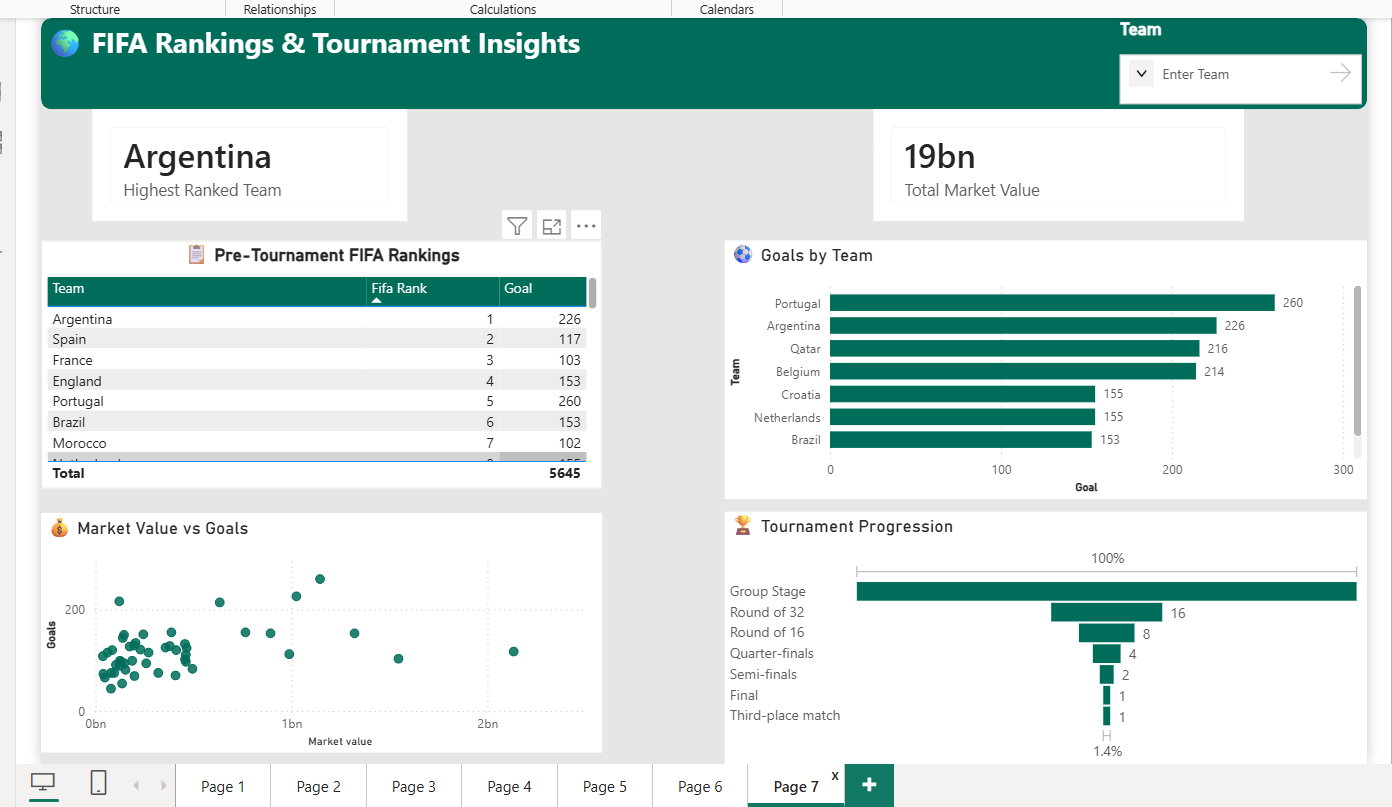

What the dashboard file says about the page in this screenshot:
{"tool":"powerbi","page":{"name":"Page 7","canvas":[1280,720],"ordinal":6},"visuals":[{"type":"shape","box":[0,0,1280,88.2],"z":0},{"type":"tableEx","title":"📋 Pre-Tournament FIFA Rankings","fields":{"Values":["teams.team_name","teams.fifa_ranking_pre_tournament","Sum(squads_and_players.goals)"]},"box":[0,214.7,541.7,238.9],"z":1000},{"type":"clusteredBarChart","title":"⚽ Goals by Team","fields":{"Category":["teams.team_name"],"Y":["Sum(squads_and_players.goals)"]},"box":[660,215.2,620,249.4],"z":2000},{"type":"scatterChart","title":"💰 Market Value vs Goals","fields":{"Category":["teams.team_name"],"X":["Sum(squads_and_players.market_value_eur)"],"Y":["Sum(squads_and_players.goals)"]},"box":[0,477.5,541.6,230.9],"z":3000},{"type":"funnel","title":"🏆 Tournament Progression","fields":{"Category":["tournament_stages.stage_name"],"Y":["Count(matches.match_id)"]},"box":[660,476.1,620,243.7],"z":4000},{"type":"textbox","box":[0,0,531.7,88.4],"z":5000},{"type":"textSlicer","title":"Team","fields":{"Values":["teams.team_name"]},"box":[1036.3,0,243.7,88.4],"z":5001},{"type":"cardVisual","fields":{"Data":["teams.Highest Ranked Team"]},"box":[49.9,88.4,303.6,108.3],"z":5002},{"type":"cardVisual","fields":{"Data":["squads_and_players.Total Market Value"]},"box":[803.9,88.4,357.8,108.3],"z":5003}]}

Visuals, with their boxes on the page's 1280x720 design canvas (x1, y1, x2, y2). These are canvas units, not pixel positions in the 1392x807 screenshot, which may show the page scaled, cropped or inside an application window:
shape: (0, 0, 1280, 88)
"📋 Pre-Tournament FIFA Rankings" tableEx: (0, 215, 542, 454)
"⚽ Goals by Team" clusteredBarChart: (660, 215, 1280, 465)
"💰 Market Value vs Goals" scatterChart: (0, 478, 542, 708)
"🏆 Tournament Progression" funnel: (660, 476, 1280, 720)
textbox: (0, 0, 532, 88)
"Team" textSlicer: (1036, 0, 1280, 88)
cardVisual - teams.Highest Ranked Team: (50, 88, 354, 197)
cardVisual - squads_and_players.Total Market Value: (804, 88, 1162, 197)
